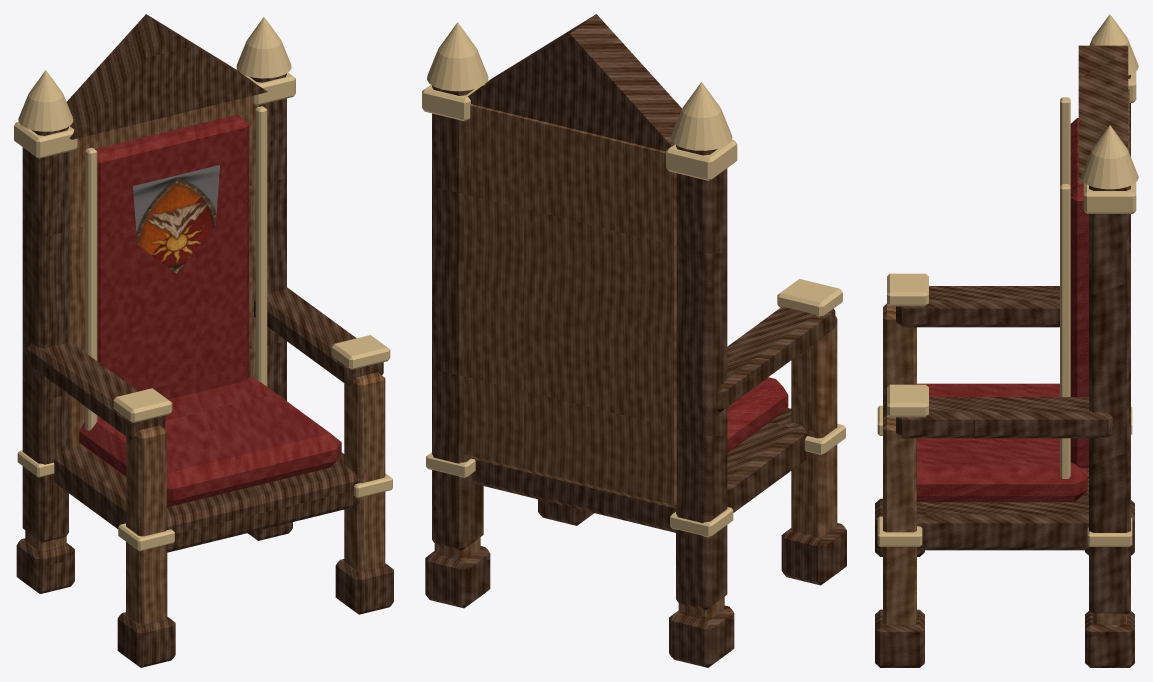
File: royal_throne.glb
3 views of the same model, side by side, from view 1: azimuth 30°, elevation 25°; view 2: azimuth 150°, elevation 25°; view 3: azimuth 270°, elevation 25° (orthographic). The views are drawn at different scales.
Visible parts, largest first — view 1: Royal_Throne_027, Royal_Throne_025, Royal_Throne_012, Royal_Throne_030, Royal_Throne_024, Royal_Throne_026, Royal_Throne_031, Royal_Throne_018, Royal_Throne_016, Royal_Throne_022, Royal_Throne_021, Royal_Throne_015 (+15 smaller); view 2: Royal_Throne_026, Royal_Throne_012, Royal_Throne_030, Royal_Throne_018, Royal_Throne_024, Royal_Throne_016, Royal_Throne_004, Royal_Throne_015, Royal_Throne_000, Royal_Throne_003, Royal_Throne_006, Royal_Throne_014 (+9 smaller); view 3: Royal_Throne_018, Royal_Throne_025, Royal_Throne_024, Royal_Throne_022, Royal_Throne_016, Royal_Throne_030, Royal_Throne_027, Royal_Throne_021, Royal_Throne_029, Royal_Throne_010, Royal_Throne_009, Royal_Throne_006 (+9 smaller).
Part boxes in pixels (left/top/right/bottom): Royal_Throne_027: left=95, top=114, right=249, bottom=415; Royal_Throne_025: left=79, top=377, right=341, bottom=507; Royal_Throne_012: left=22, top=126, right=68, bottom=542; Royal_Throne_030: left=66, top=14, right=267, bottom=139; Royal_Throne_024: left=53, top=445, right=360, bottom=552; Royal_Throne_026: left=68, top=96, right=258, bottom=448; Royal_Throne_031: left=133, top=165, right=219, bottom=273; Royal_Throne_018: left=249, top=73, right=286, bottom=400; Royal_Throne_016: left=27, top=341, right=165, bottom=439; Royal_Throne_022: left=254, top=287, right=383, bottom=386; Royal_Throne_021: left=344, top=372, right=385, bottom=482; Royal_Throne_015: left=126, top=425, right=166, bottom=536; Royal_Throne_026: left=463, top=104, right=676, bottom=508; Royal_Throne_012: left=676, top=145, right=727, bottom=610; Royal_Throne_030: left=468, top=14, right=681, bottom=151; Royal_Throne_018: left=432, top=85, right=483, bottom=550; Royal_Throne_024: left=472, top=408, right=807, bottom=532; Royal_Throne_016: left=717, top=306, right=835, bottom=412; Royal_Throne_004: left=791, top=414, right=837, bottom=537; Royal_Throne_015: left=791, top=316, right=837, bottom=437; Royal_Throne_000: left=669, top=605, right=734, bottom=667; Royal_Throne_003: left=781, top=523, right=846, bottom=585; Royal_Throne_006: left=425, top=546, right=490, bottom=608; Royal_Throne_014: left=671, top=82, right=732, bottom=150; Royal_Throne_018: left=1089, top=185, right=1130, bottom=614; Royal_Throne_025: left=913, top=383, right=1087, bottom=502; Royal_Throne_024: left=917, top=468, right=1088, bottom=550; Royal_Throne_022: left=896, top=397, right=1113, bottom=438; Royal_Throne_016: left=896, top=286, right=1059, bottom=327; Royal_Throne_030: left=1078, top=45, right=1128, bottom=183; Royal_Throne_027: left=1070, top=118, right=1088, bottom=468; Royal_Throne_021: left=883, top=414, right=916, bottom=532; Royal_Throne_029: left=1060, top=184, right=1070, bottom=478; Royal_Throne_010: left=883, top=515, right=916, bottom=624; Royal_Throne_009: left=875, top=609, right=924, bottom=667; Royal_Throne_006: left=1085, top=611, right=1134, bottom=667.
Size of the model in its own units: 1.22 by 2.35 by 1.
5 materials, 4 textured.
